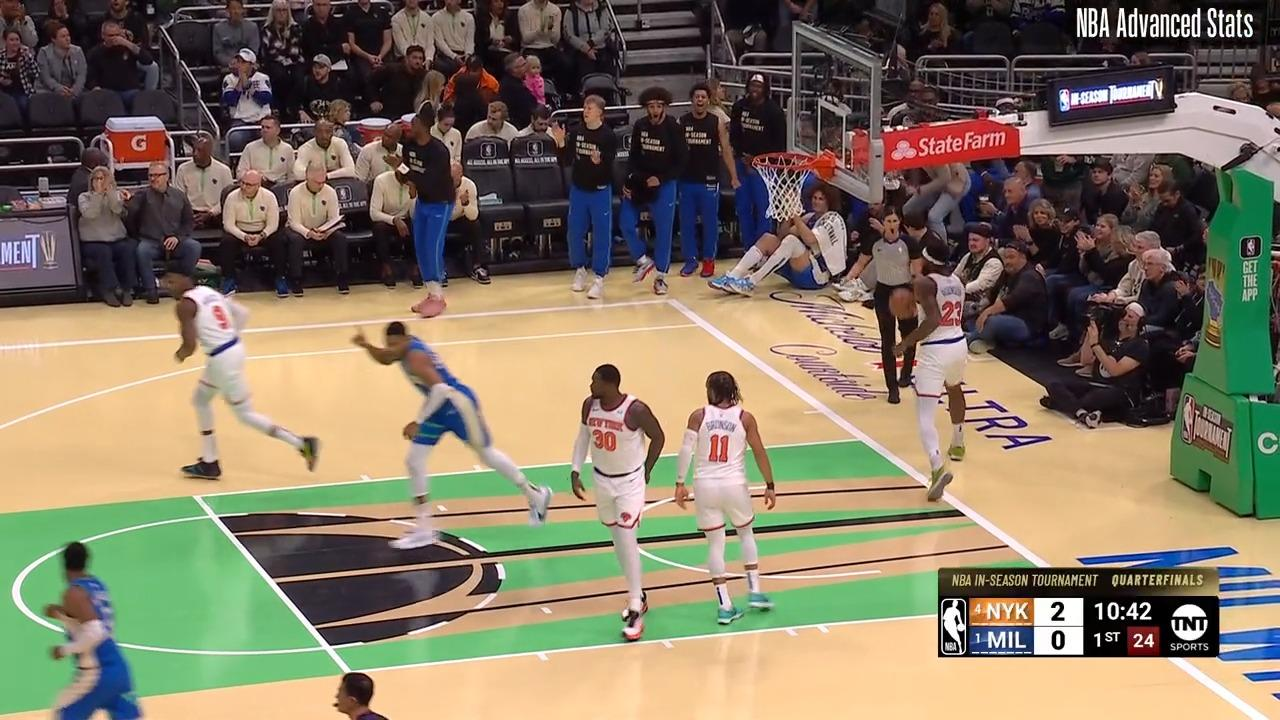Backboard: (805, 31, 879, 199)
Ball: (889, 288, 913, 319)
Basket: (754, 151, 826, 221)
Person: (363, 319, 556, 549), (163, 265, 321, 488), (670, 367, 783, 631), (564, 359, 662, 640), (38, 537, 146, 720), (906, 240, 978, 500)
Referee: (852, 209, 916, 410)
